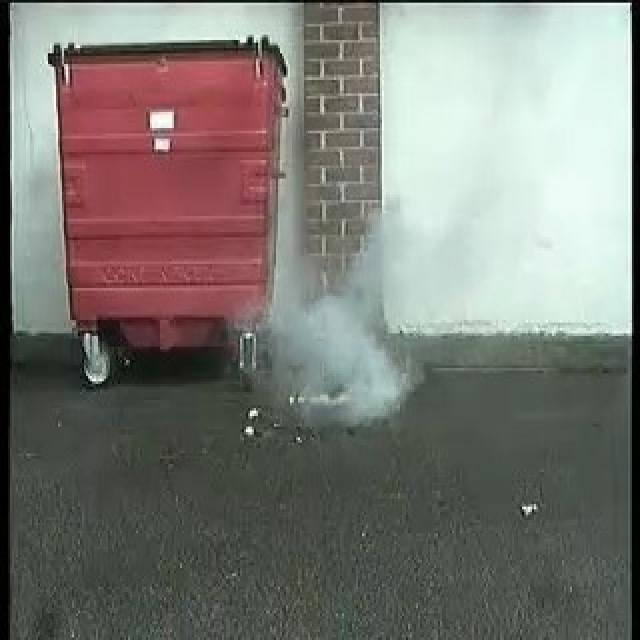smoke: (275, 268, 415, 419)
